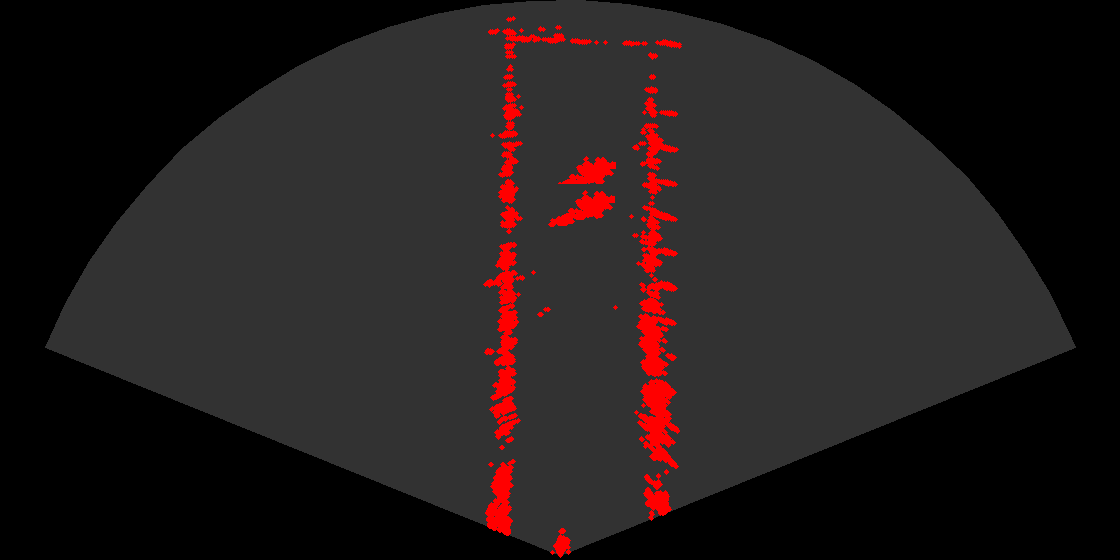frogman: (548, 150, 616, 197), (547, 184, 615, 231)
